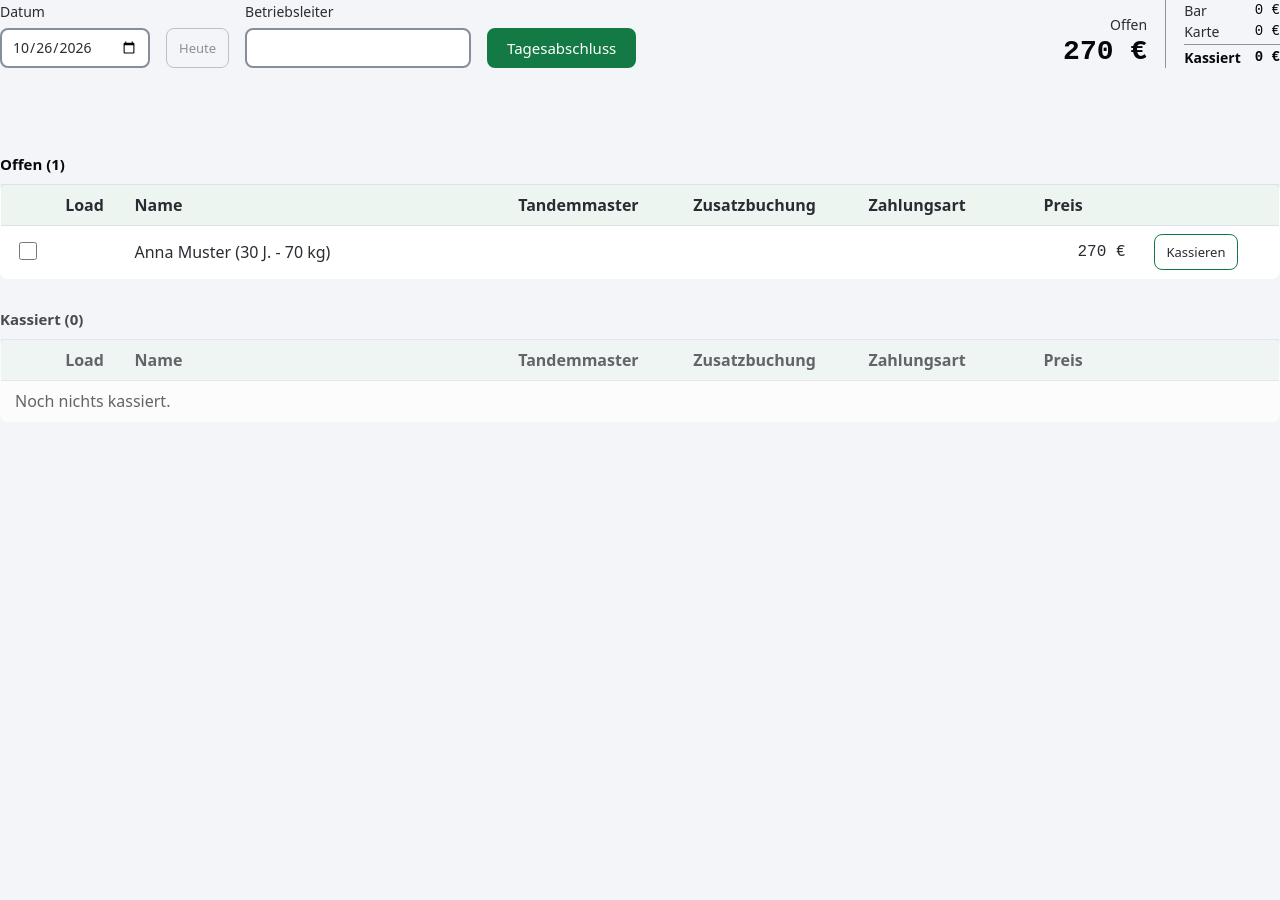
Test: List › moves a row down when it is marked as collected
Expected: the text "Anna Muster" is shown, [134,241,231,263]
Step 1. Click the button "Kassieren" → {"x": 1196, "y": 252}, box [1154,234,1238,270]
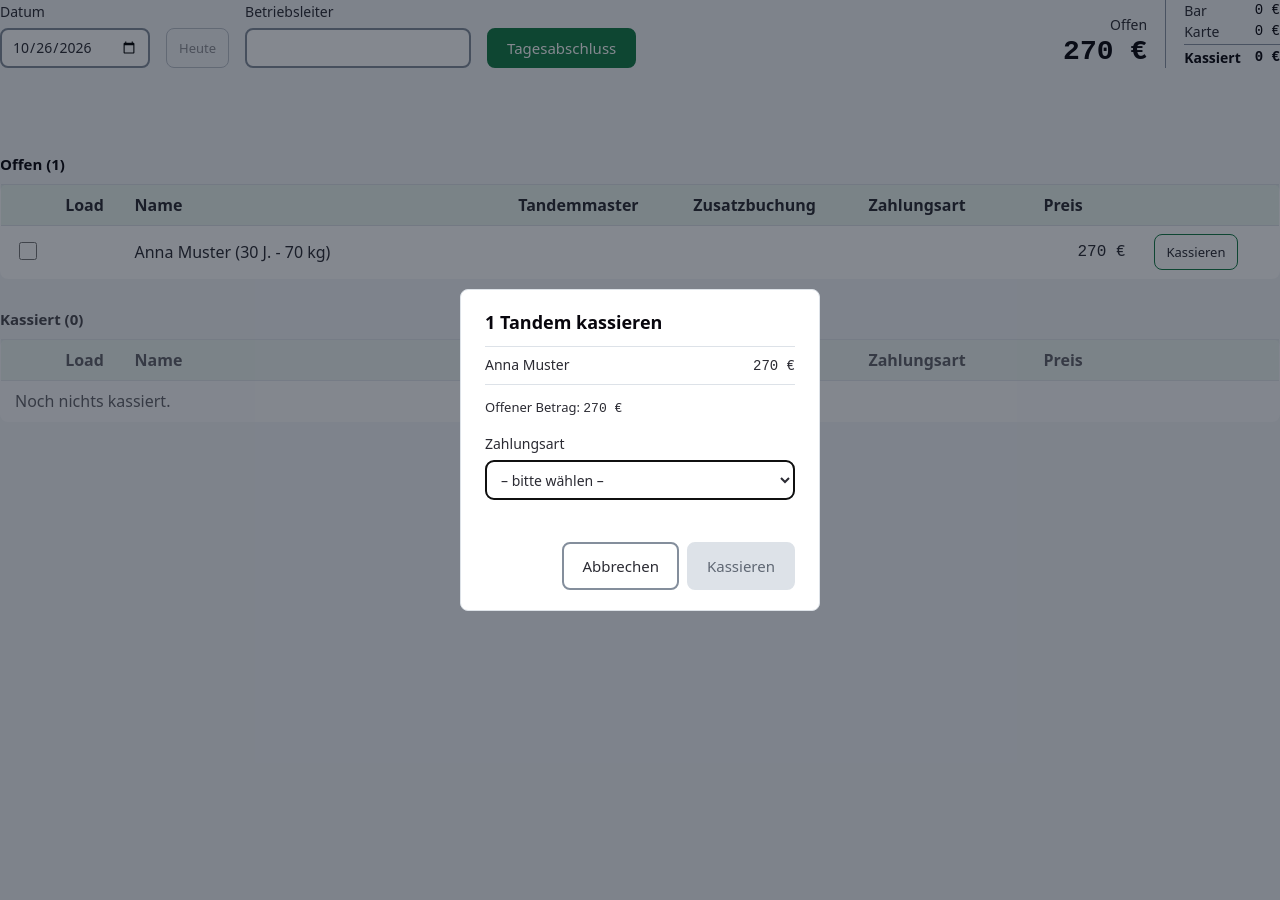
Expected: the heading "1 Tandem kassieren" is shown, [485,310,662,334]
Step 2. Select "Bar" in the dropdown labelled "Zahlungsart" → {"x": 640, "y": 480}, box [485,460,795,500]
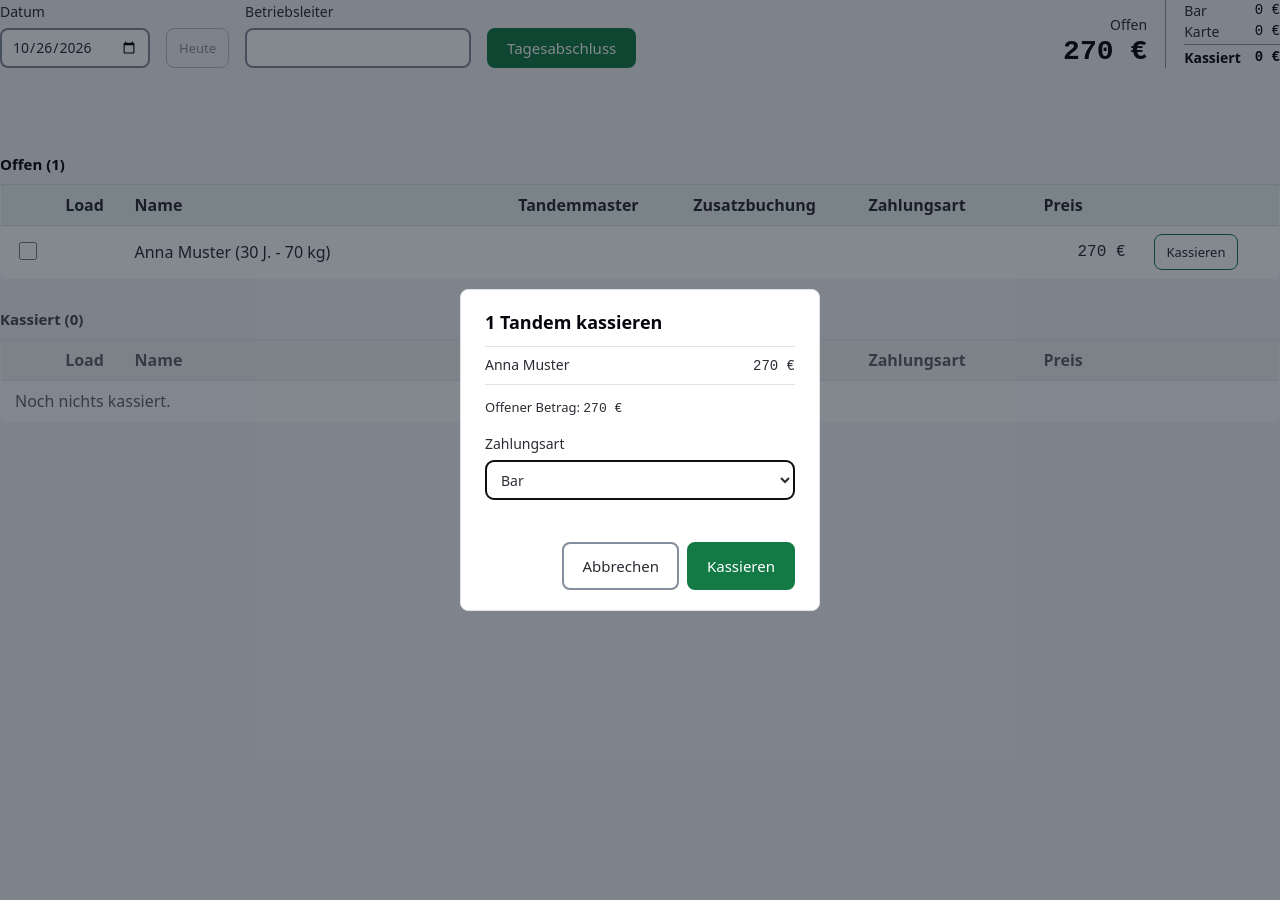
Step 3. Click the button "Kassieren" → {"x": 741, "y": 566}, box [687,542,795,590]
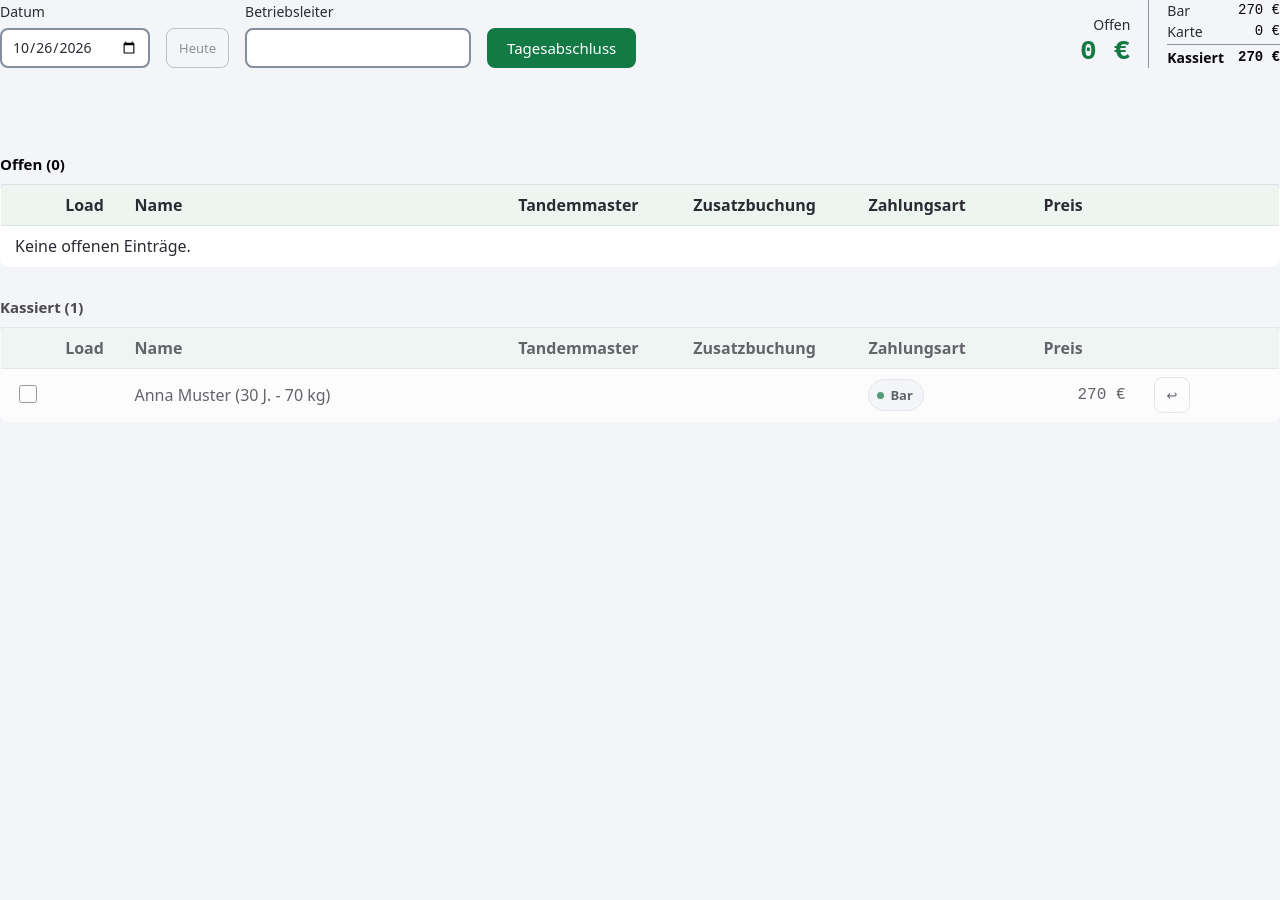
Expected: the text "Anna Muster" is shown, [134,384,231,406]
Expected: the dialog is gone
